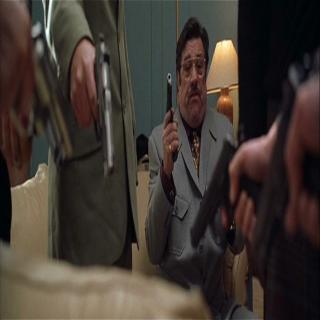gun: (252, 60, 313, 298), (2, 10, 78, 173), (187, 123, 254, 276), (78, 29, 122, 186), (146, 66, 180, 169)
